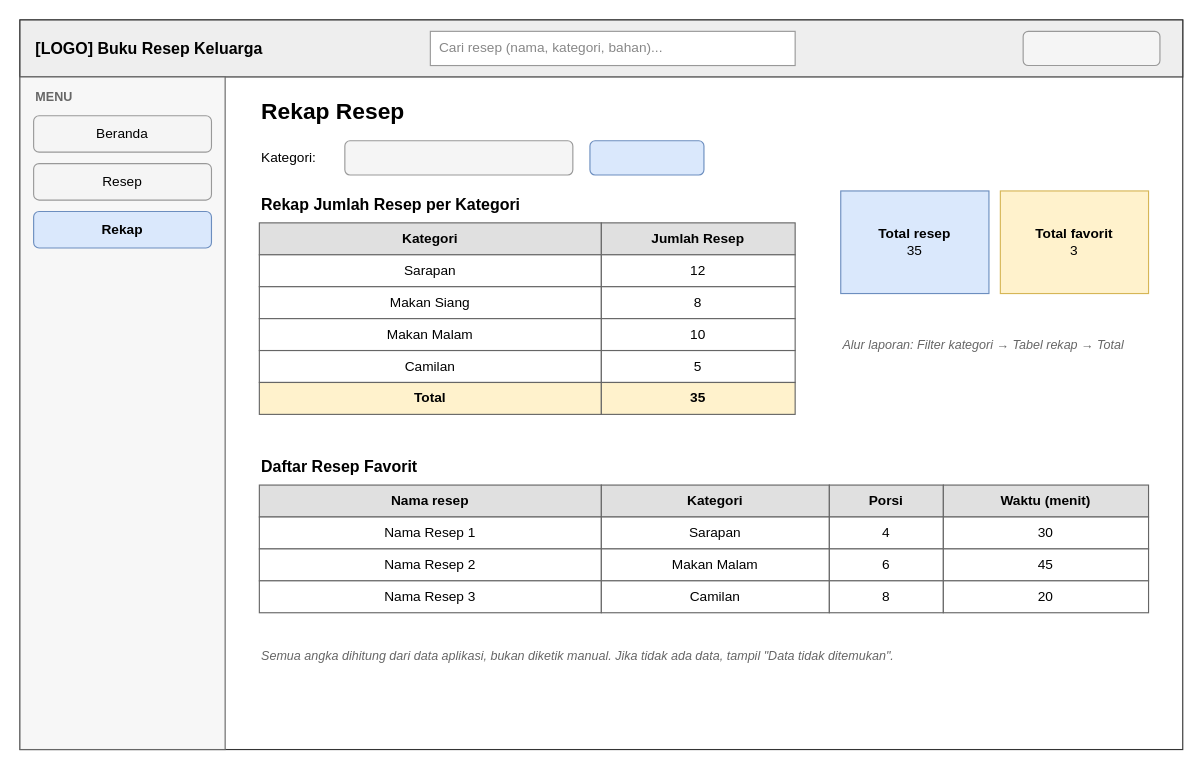
Some shapes in this 1203 by 770 pixel diagram are drawn without their labels. Each missing label, with the box of its shape:
Profil ▾: (1022, 30, 1160, 66)
Semua kategori ▾: (344, 140, 573, 175)
Terapkan: (589, 140, 704, 175)
